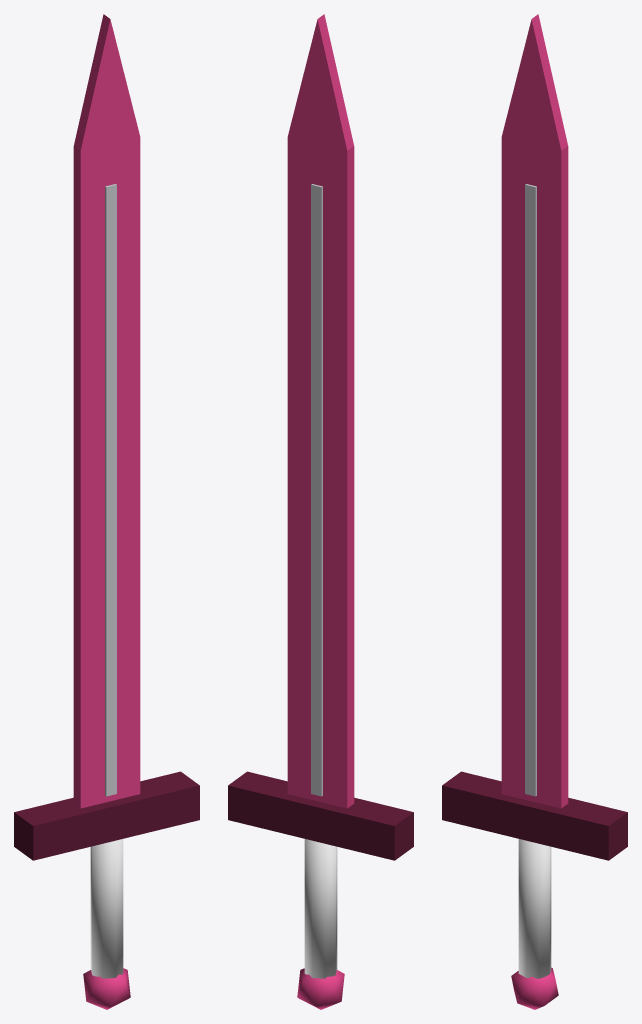
Rendered from star_wrath.glb.
3 views of the same model, side by side, from view 1: azimuth 30°, elevation 25°; view 2: azimuth 150°, elevation 25°; view 3: azimuth 330°, elevation 25° (orthographic).
Visible parts, largest first — view 1: star_wrath_v0; view 2: star_wrath_v0; view 3: star_wrath_v0.
Boxes of the visible parts, left/top/right/bottom form: star_wrath_v0: left=14, top=14, right=199, bottom=1009; star_wrath_v0: left=228, top=14, right=413, bottom=1009; star_wrath_v0: left=442, top=14, right=627, bottom=1009.
Size of the model in its own units: 0.252 by 1.44 by 0.0595.
